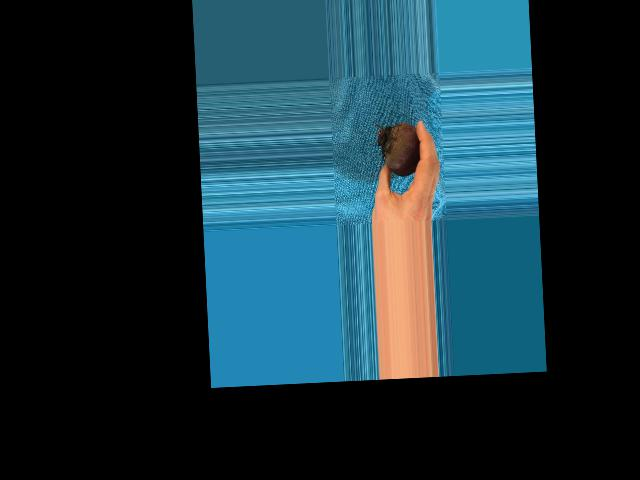beet: (375, 121, 420, 176)
